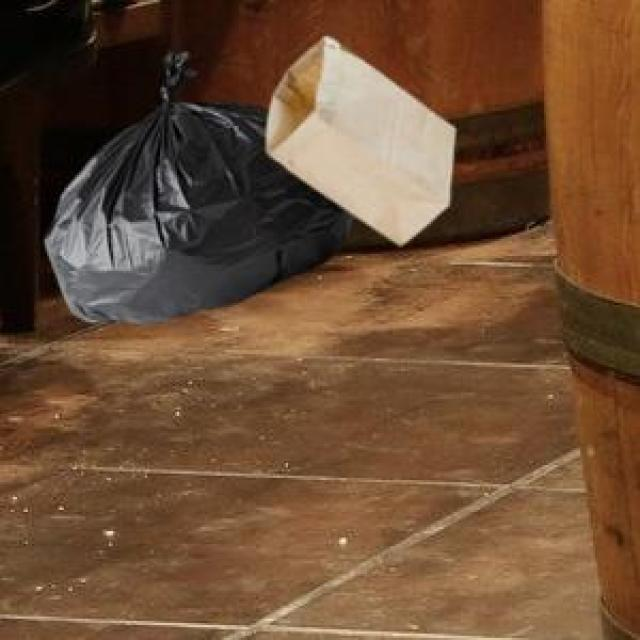miscellaneous trash: (41, 49, 350, 320)
paper: (262, 34, 450, 241)
